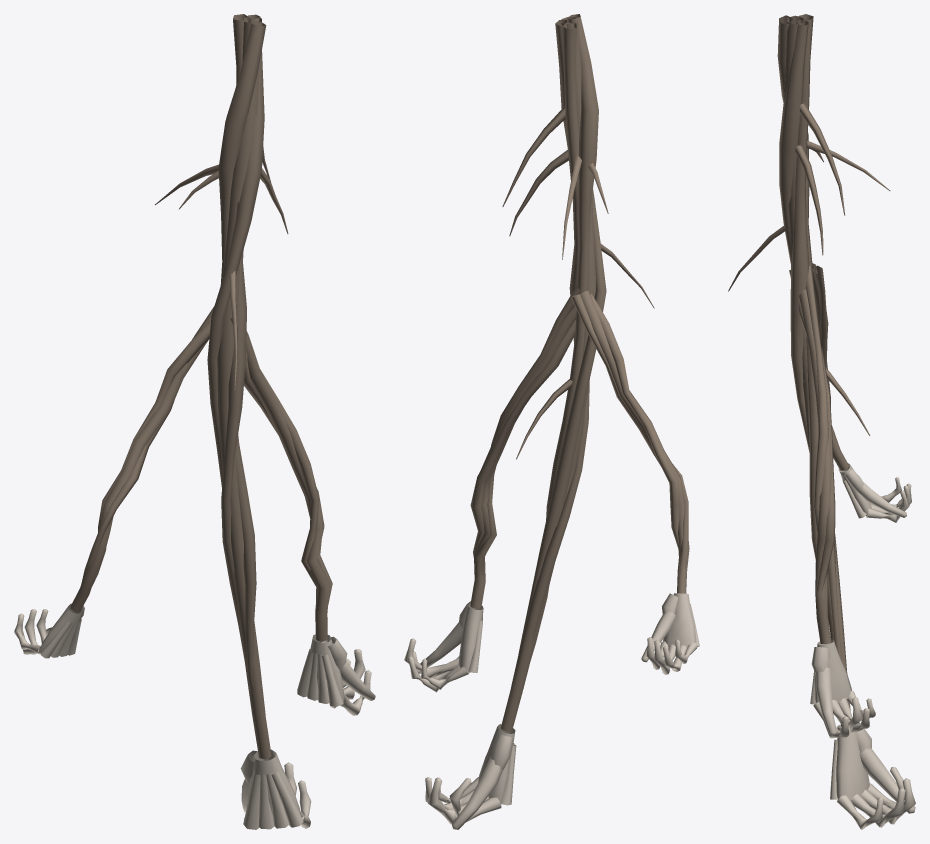
Rendered from HandRoot3.fbx.
The picture shows the model from 3 angles, left to right: view 1: azimuth 30°, elevation 25°; view 2: azimuth 150°, elevation 25°; view 3: azimuth 270°, elevation 25°; orthographic projection. The views are drawn at different scales.
Parts seen in each view (by area): view 1: HandRoot3; view 2: HandRoot3; view 3: HandRoot3.
Part boxes in pixels (left/top/right/bottom): HandRoot3: left=14, top=14, right=375, bottom=829; HandRoot3: left=404, top=14, right=699, bottom=829; HandRoot3: left=728, top=14, right=915, bottom=829.
Size of the model in its own units: 0.8494 by 2.14 by 0.4709.
